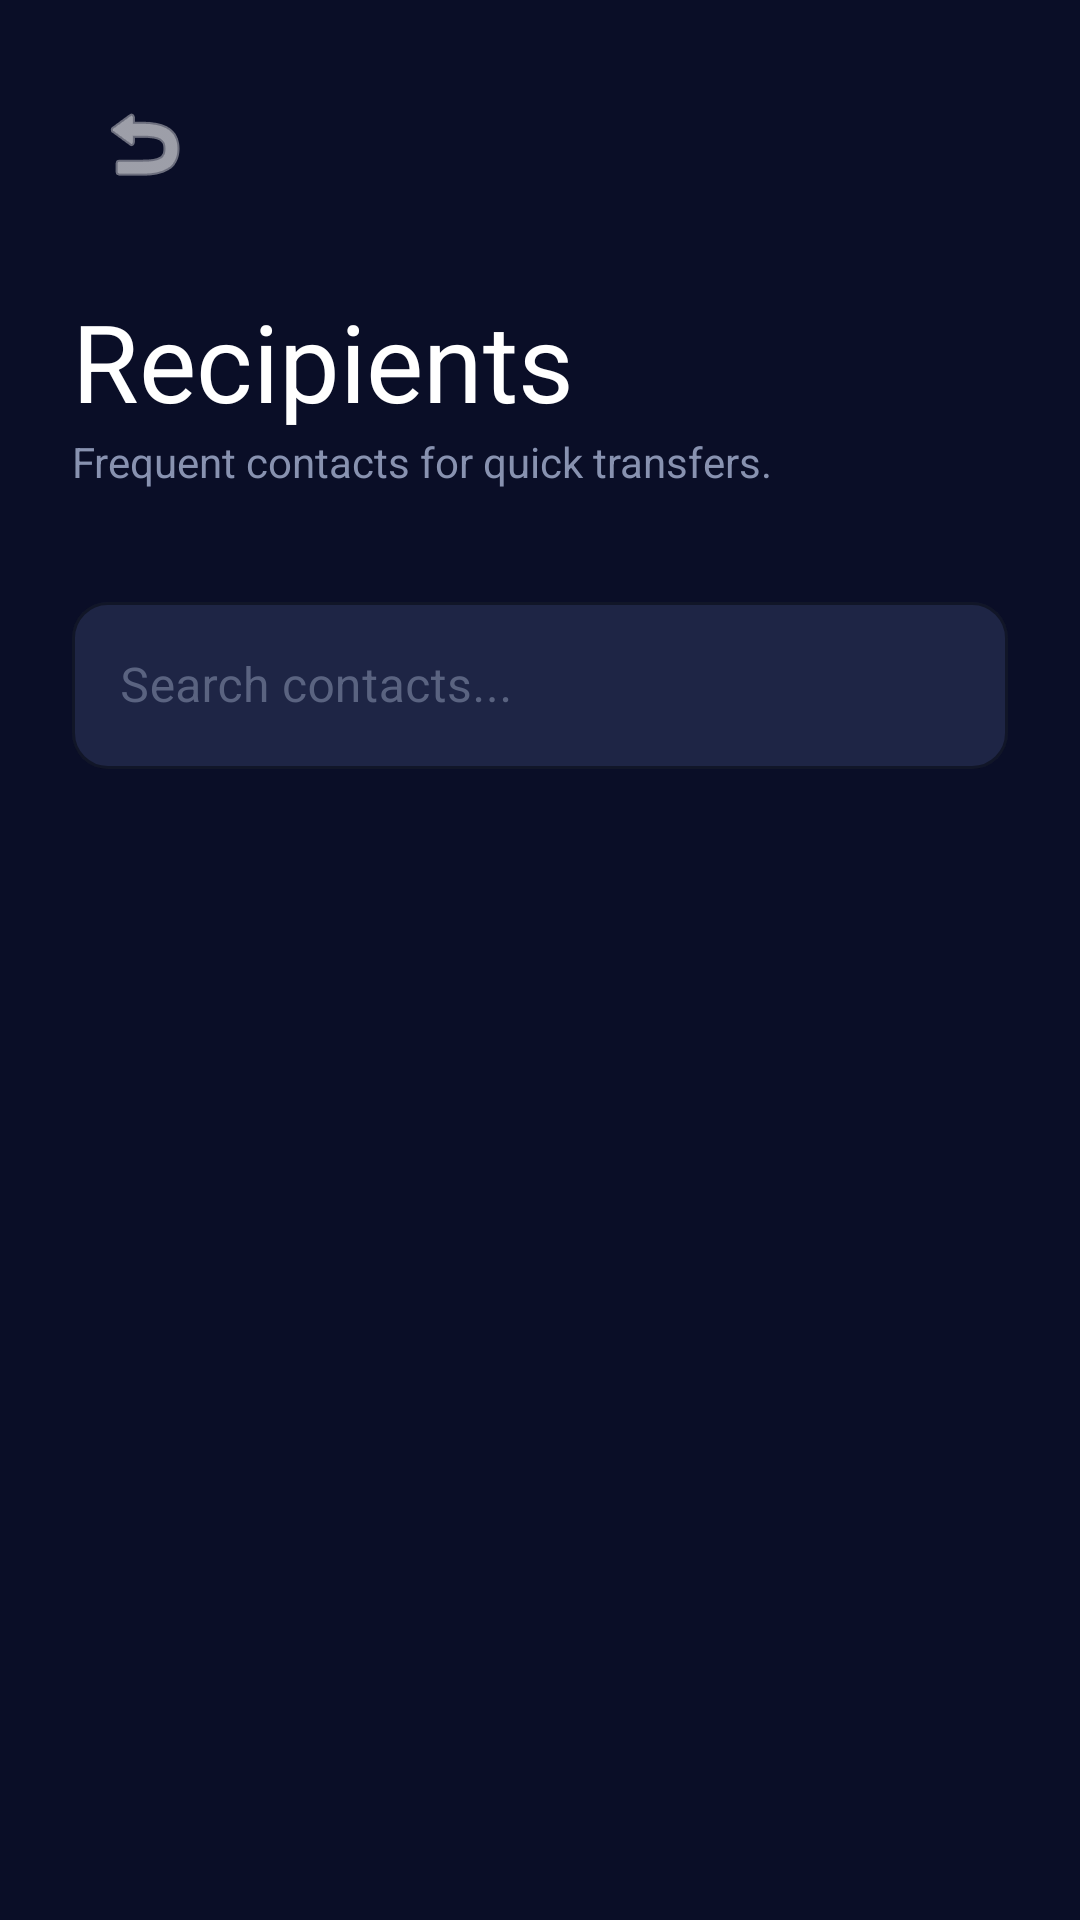

Icons on this 1080 x 1920 Android screen, each with the point to tap as [x,y]:
revert: [145,144]
